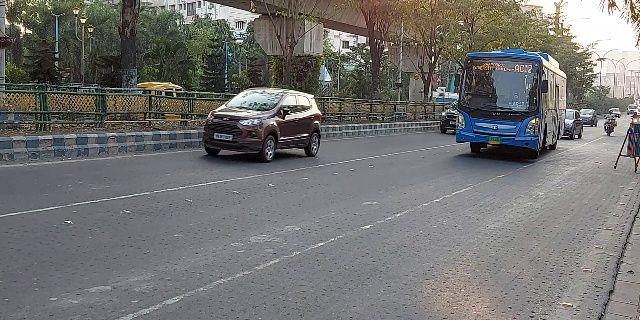Bus: (454, 48, 565, 163)
Car: (195, 83, 323, 164), (565, 107, 583, 138)
Motorbike: (602, 108, 620, 140)
